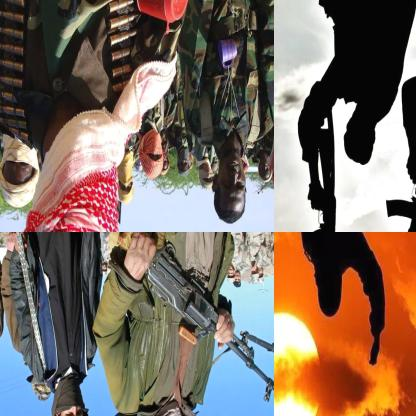rifle: (77, 232, 273, 403), (292, 121, 339, 231), (382, 107, 415, 231)
